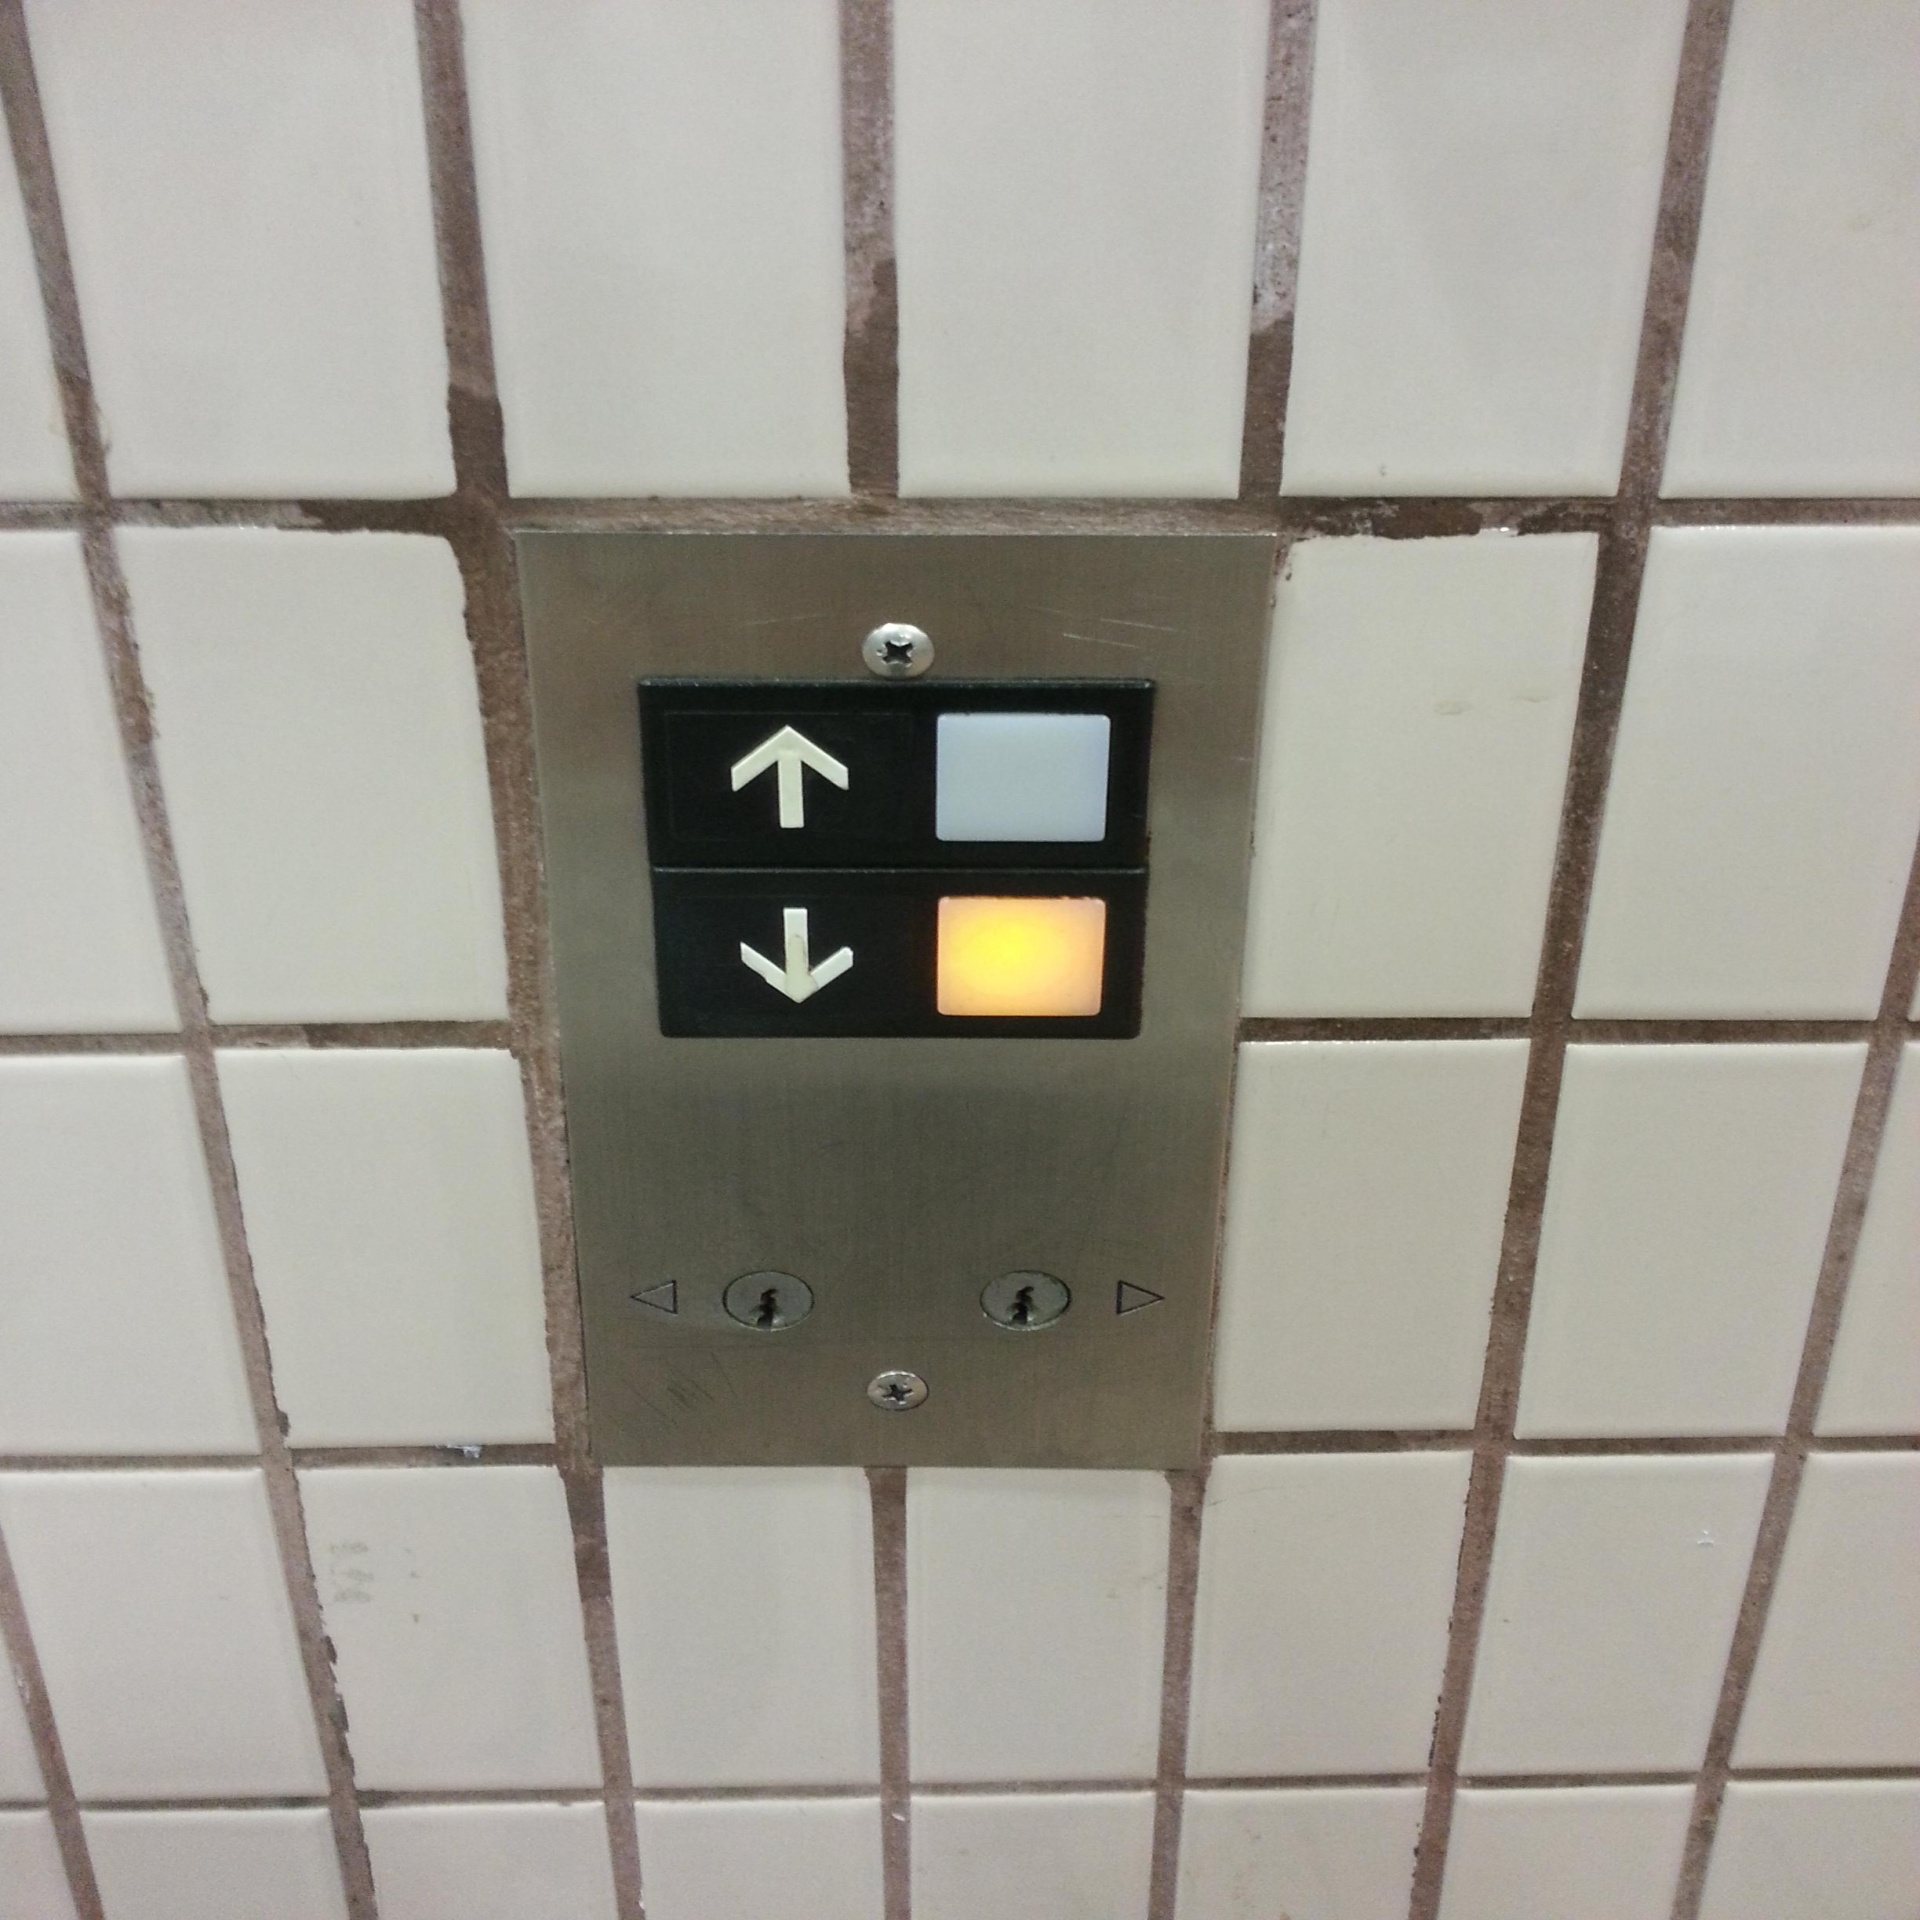down: (642, 856, 1157, 1053)
keyhole: (969, 1259, 1080, 1340), (712, 1257, 823, 1336)
up: (638, 661, 1160, 888)
